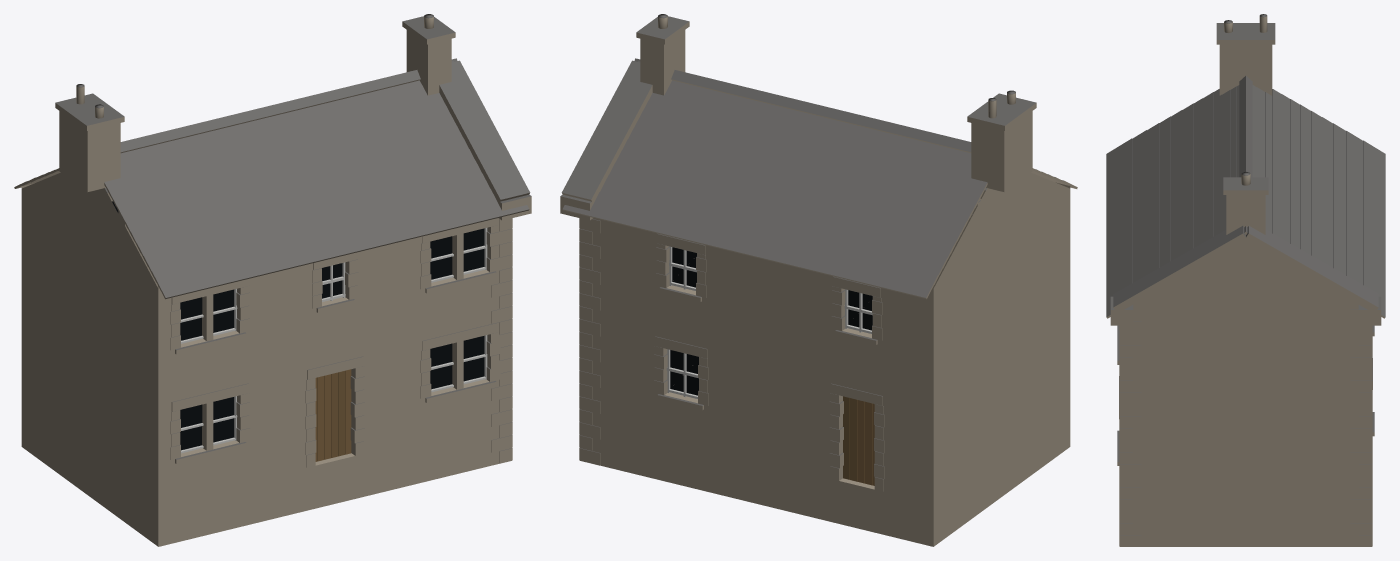
Rendered from context.dales.house_13.glb.
3 renders of one model, left to right at view 1: azimuth 30°, elevation 25°; view 2: azimuth 150°, elevation 25°; view 3: azimuth 270°, elevation 25°, orthographic. The views are drawn at different scales.
Parts seen in each view (by area): view 1: main__stone_a98, main__slate_666, main__glass_dark, main__paint_ccc, main__paint_764, main__paint_754; view 2: main__stone_a98, main__slate_666, main__glass_dark, main__paint_ccc, main__paint_864, main__paint_764; view 3: main__stone_a98, main__slate_666.
Part boxes in pixels (left/top/right/bottom): main__stone_a98: left=14, top=16, right=531, bottom=546; main__slate_666: left=26, top=14, right=531, bottom=459; main__glass_dark: left=112, top=201, right=484, bottom=450; main__paint_ccc: left=180, top=228, right=487, bottom=453; main__paint_764: left=315, top=369, right=351, bottom=461; main__paint_754: left=331, top=372, right=338, bottom=457; main__stone_a98: left=560, top=16, right=1077, bottom=546; main__slate_666: left=560, top=14, right=1063, bottom=479; main__glass_dark: left=670, top=247, right=872, bottom=395; main__paint_ccc: left=666, top=246, right=872, bottom=398; main__paint_864: left=857, top=400, right=874, bottom=485; main__paint_764: left=850, top=398, right=857, bottom=481; main__stone_a98: left=1106, top=16, right=1385, bottom=546; main__slate_666: left=1106, top=14, right=1385, bottom=535.
Bounding box in the file's own units: 9.42 × 9.4 × 6.38.
